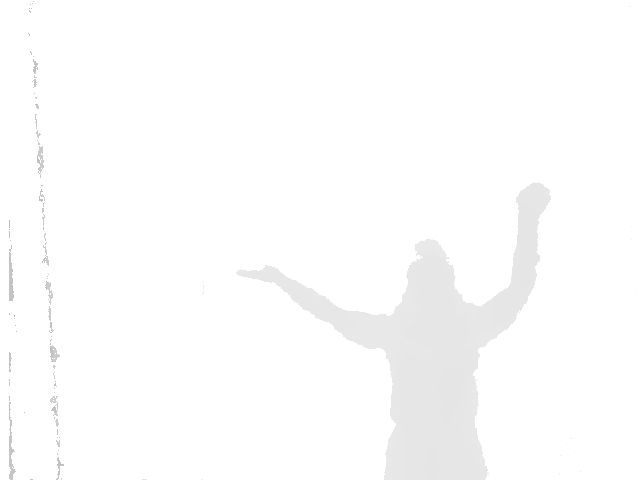hand: (514, 179, 556, 224)
head: (402, 237, 461, 313)
person: (237, 180, 564, 479)
